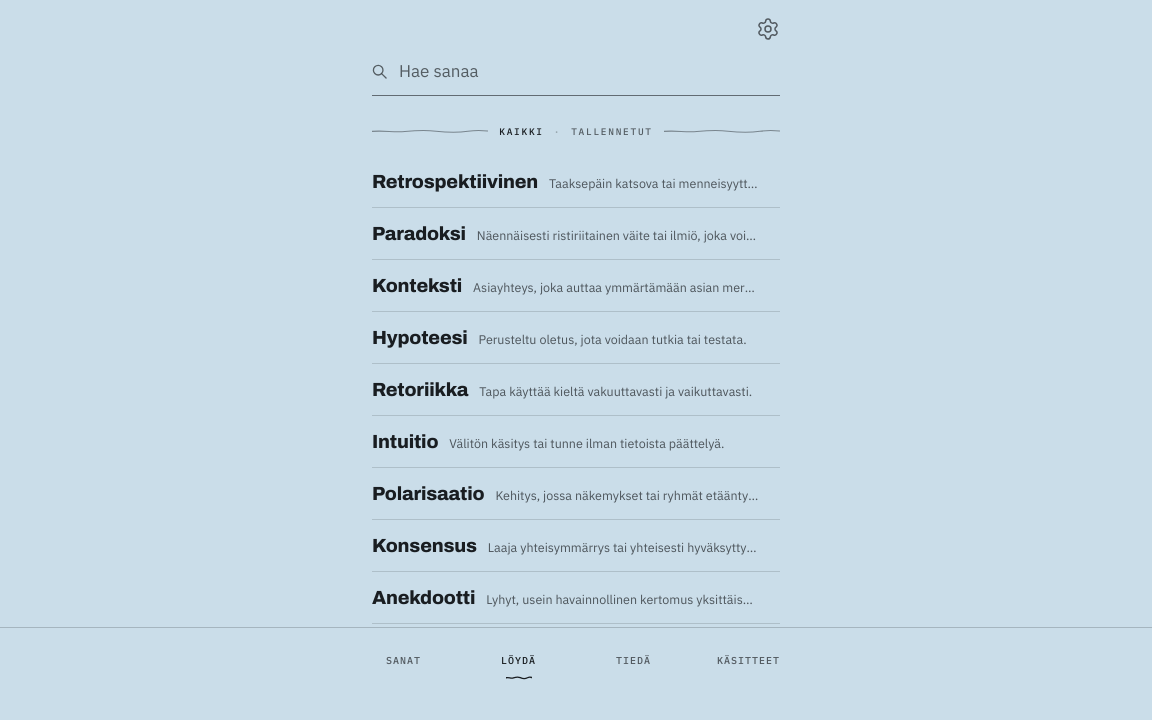
it: TAJU app › hakee sanan ja avaa sen suoran reitin
Type "paradoksi" into the search field named "Hae sanoja". click: (590, 71)
box: [399,60,780,82]
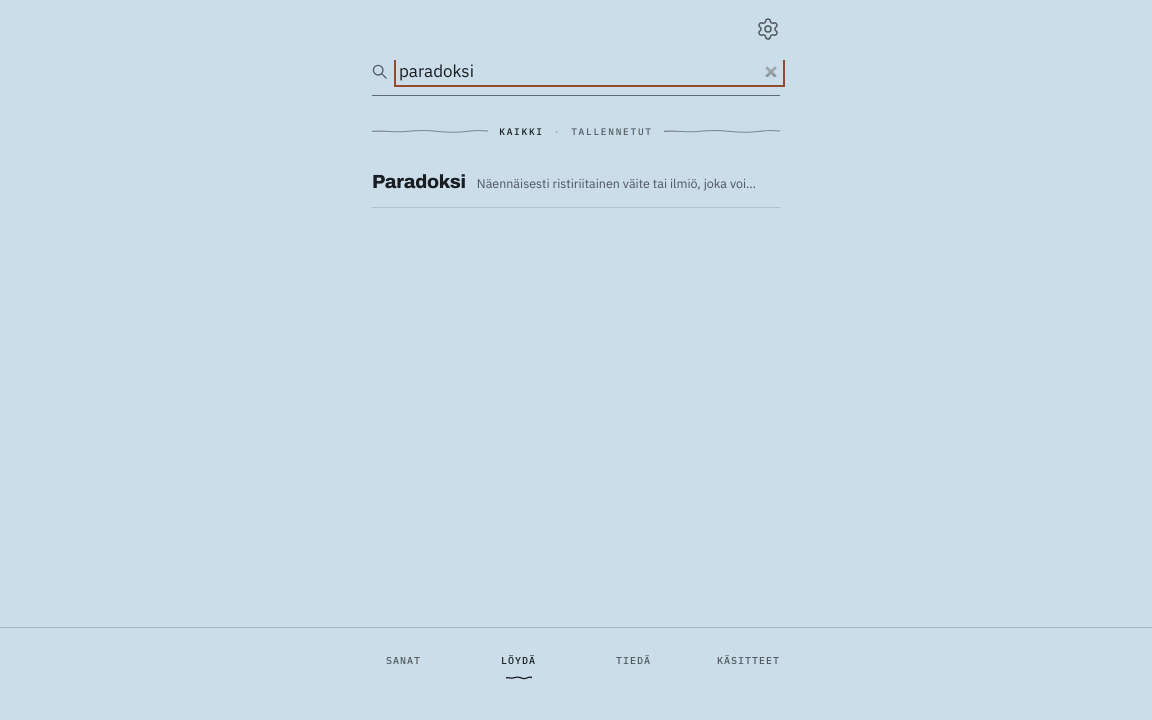
Click the link "Paradoksi". click: (576, 182)
box: [372,156,780,208]
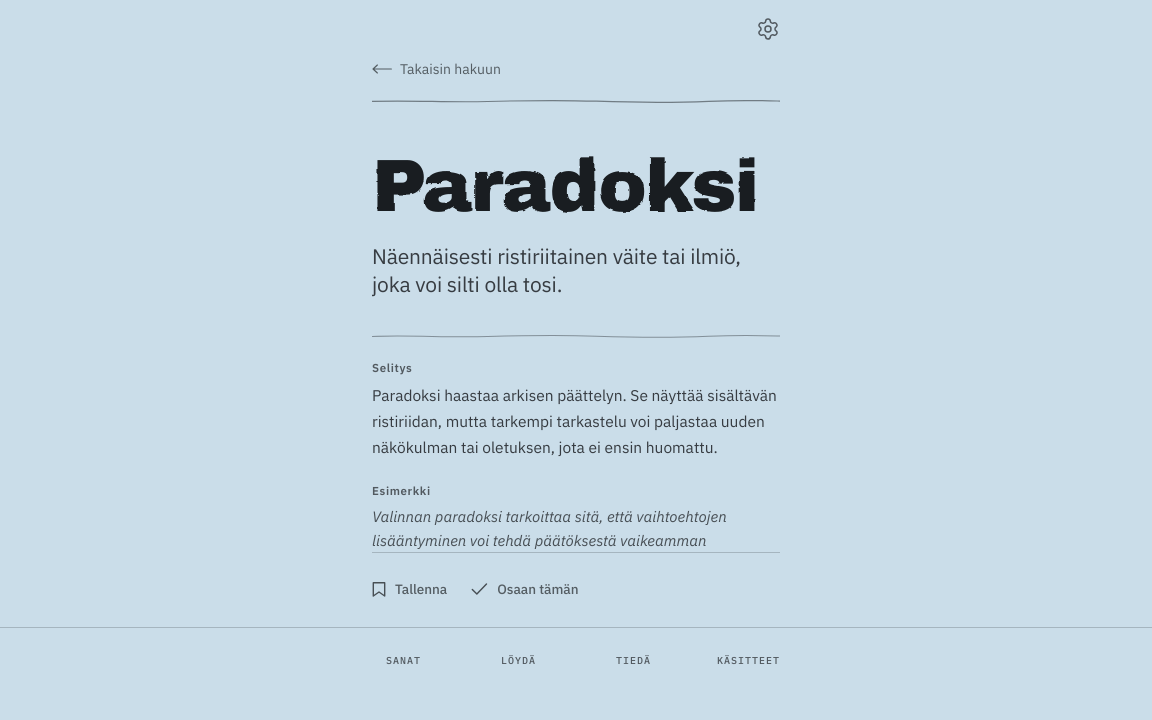
Expected: the heading "Paradoksi" is shown, [372,154,780,221]
